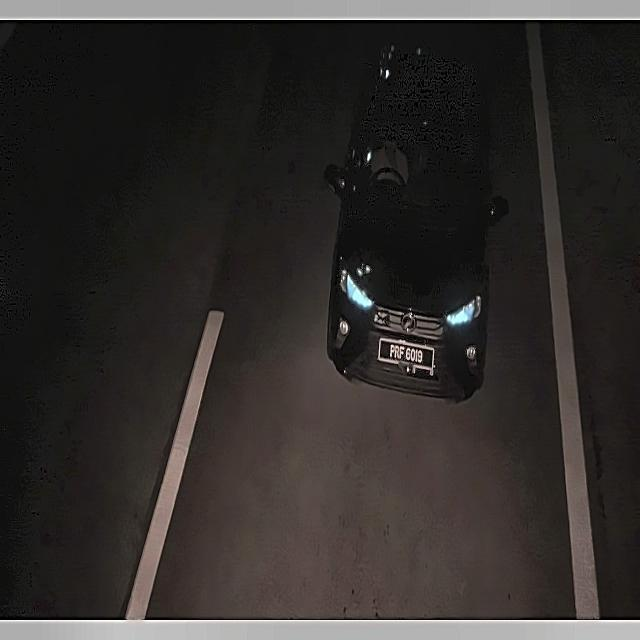car: (374, 332, 439, 376)
